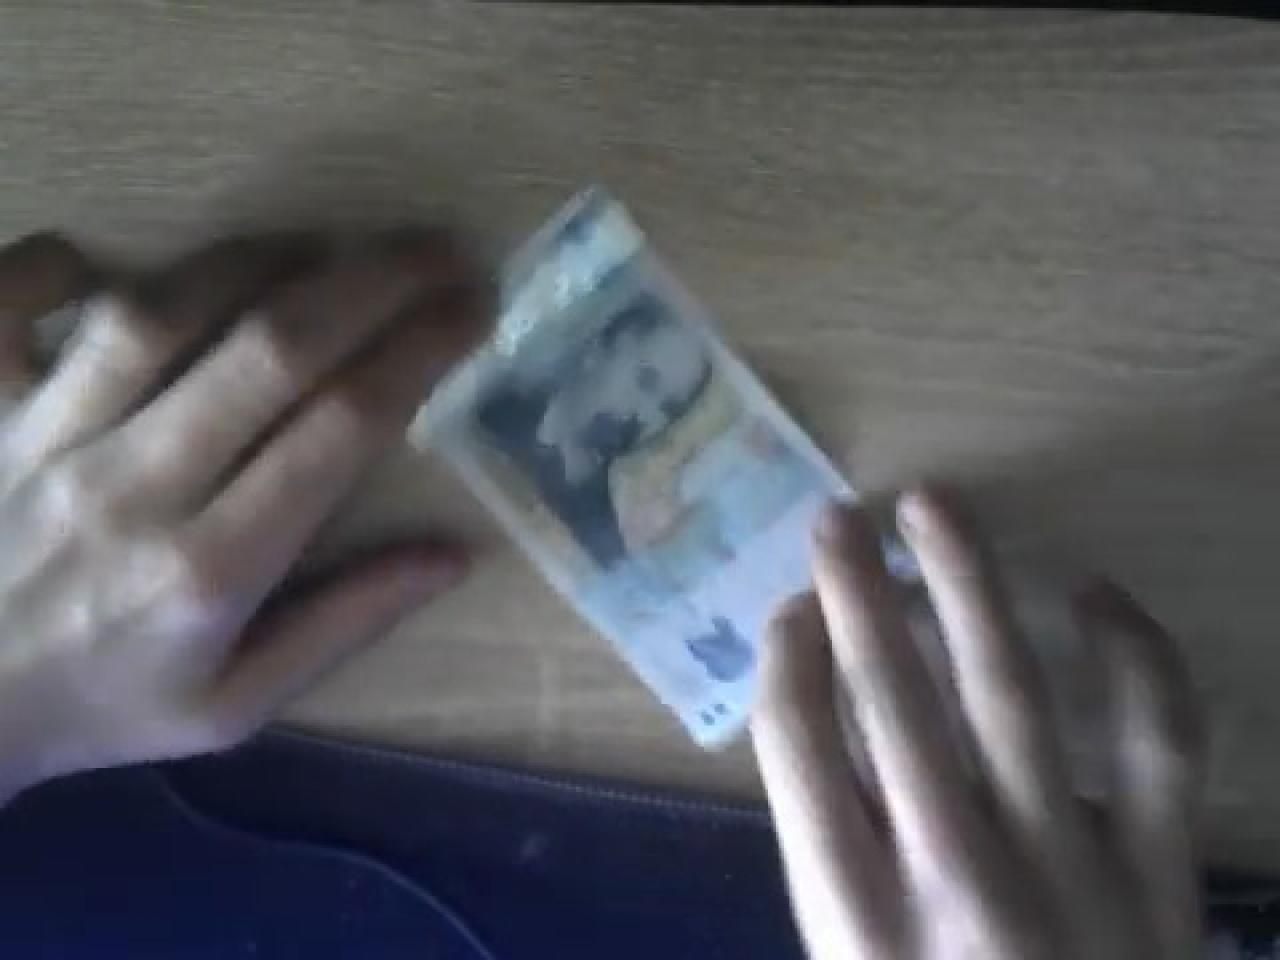20leva: (403, 182, 888, 757)
